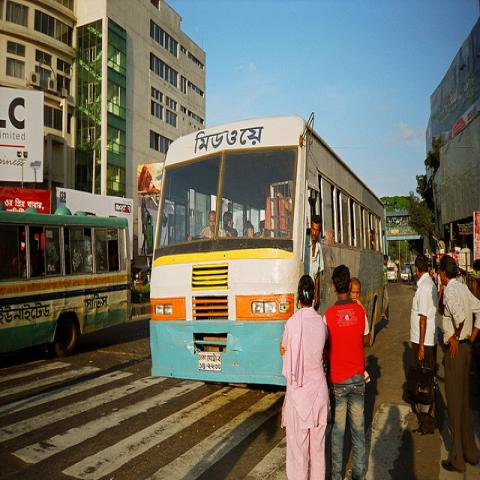bus: (150, 111, 388, 388), (2, 212, 132, 358)
